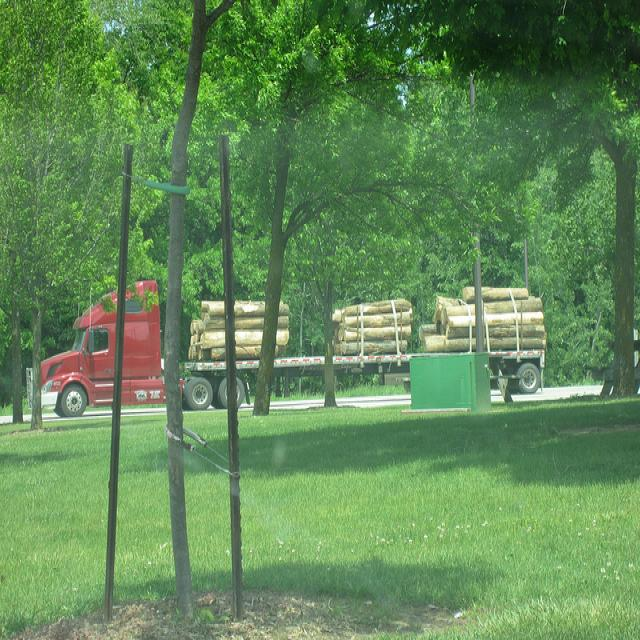Vehicle: (27, 280, 546, 416)
